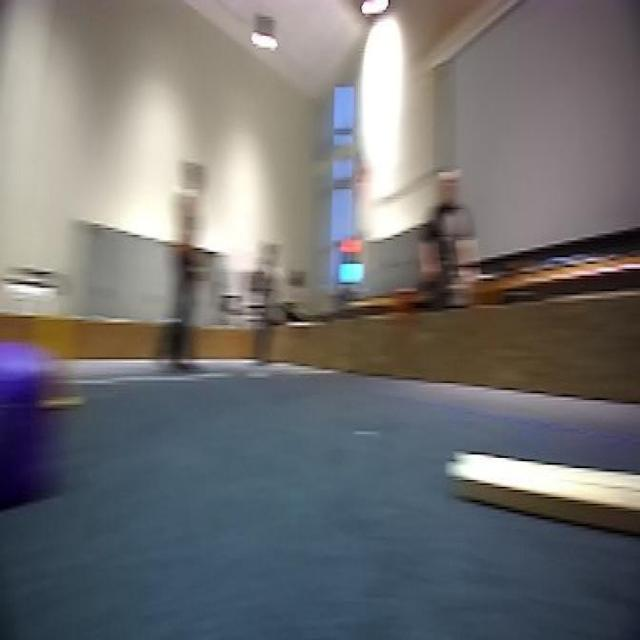frc_cube: (0, 349, 50, 511)
